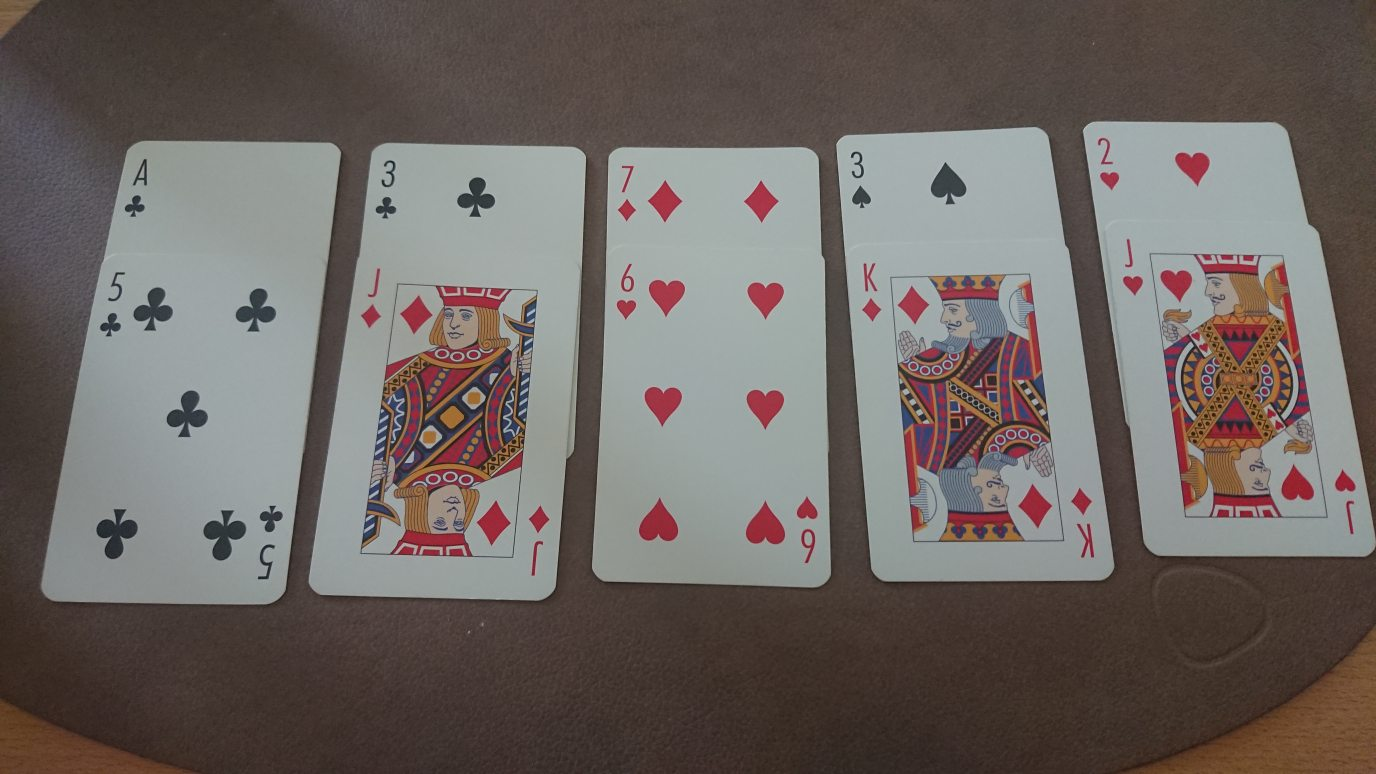2H: (1092, 135, 1123, 194)
3C: (372, 156, 402, 223)
3S: (845, 146, 876, 213)
5C: (96, 267, 132, 342)
6H: (612, 259, 642, 322)
7D: (614, 160, 641, 227)
AC: (121, 153, 154, 222)
JD: (356, 263, 388, 332)
JH: (1116, 230, 1149, 300)
KD: (855, 256, 887, 326)
